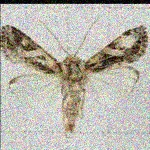Spodoptera litura: (0, 15, 148, 139)
